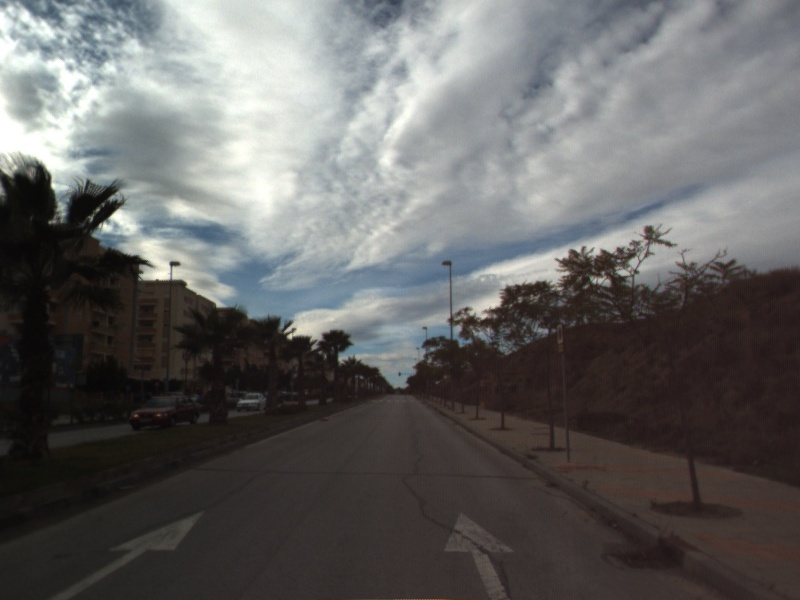STRAIGHT: (46, 508, 208, 600), (442, 510, 517, 600)
